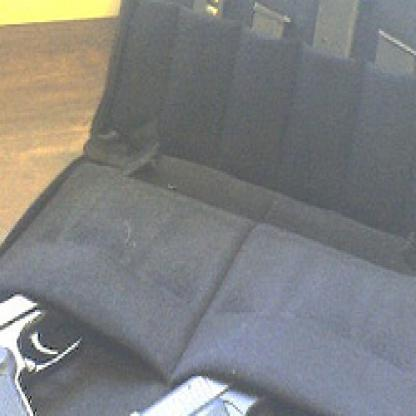gun: (108, 345, 363, 414), (0, 276, 107, 414)
